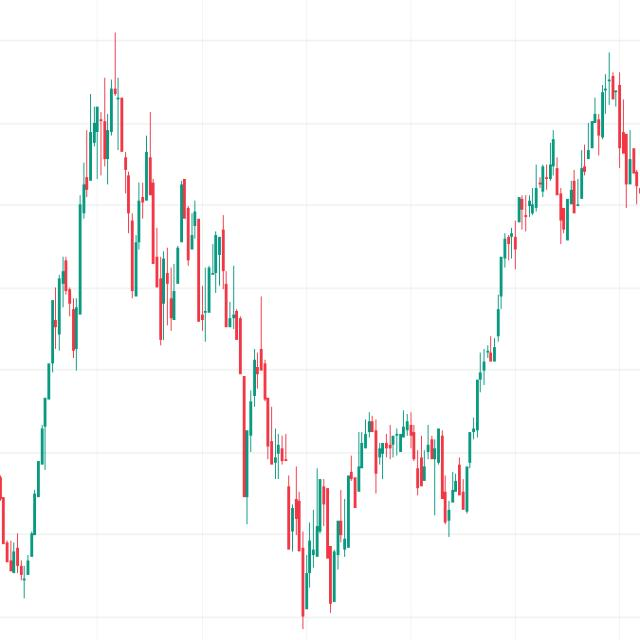Triple-Top: (353, 409, 450, 490)
